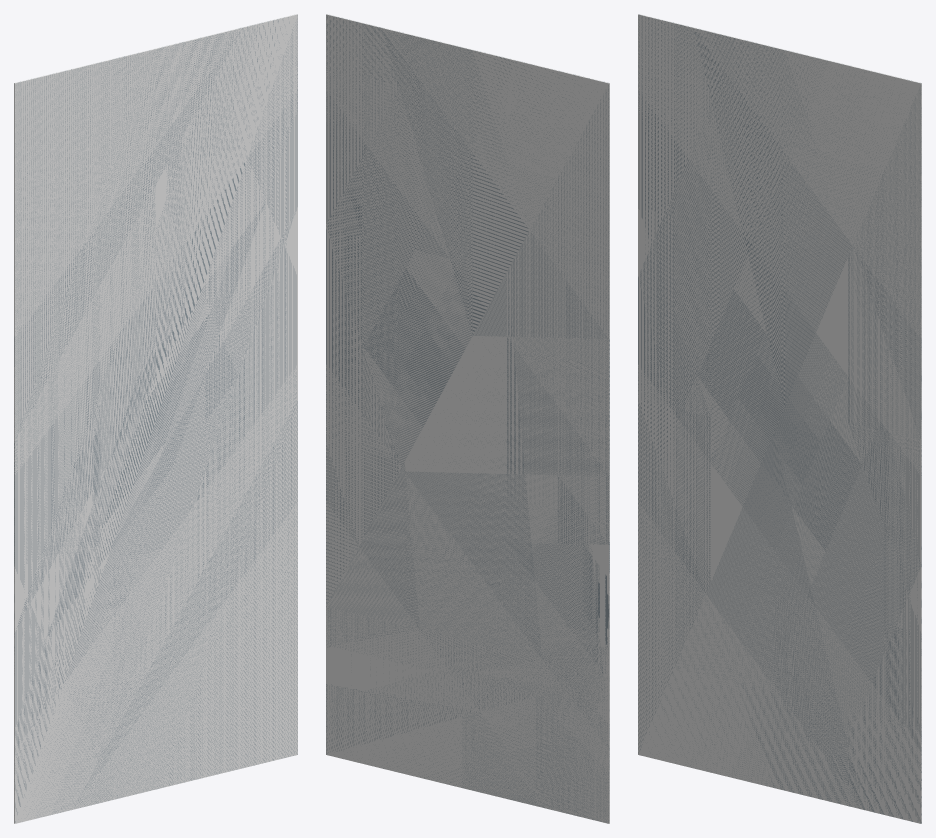
3 views of the same model, side by side, from view 1: azimuth 30°, elevation 25°; view 2: azimuth 150°, elevation 25°; view 3: azimuth 330°, elevation 25° (orthographic).
Visible parts, largest first — view 1: group_0; view 2: group_0; view 3: group_0.
Boxes of the visible parts, box(x1,y1,x2,y2) form: group_0: box(14, 14, 297, 823); group_0: box(326, 14, 609, 823); group_0: box(638, 14, 921, 823).
Size of the model in its own units: 11.81 by 0.0472 by 29.53.
